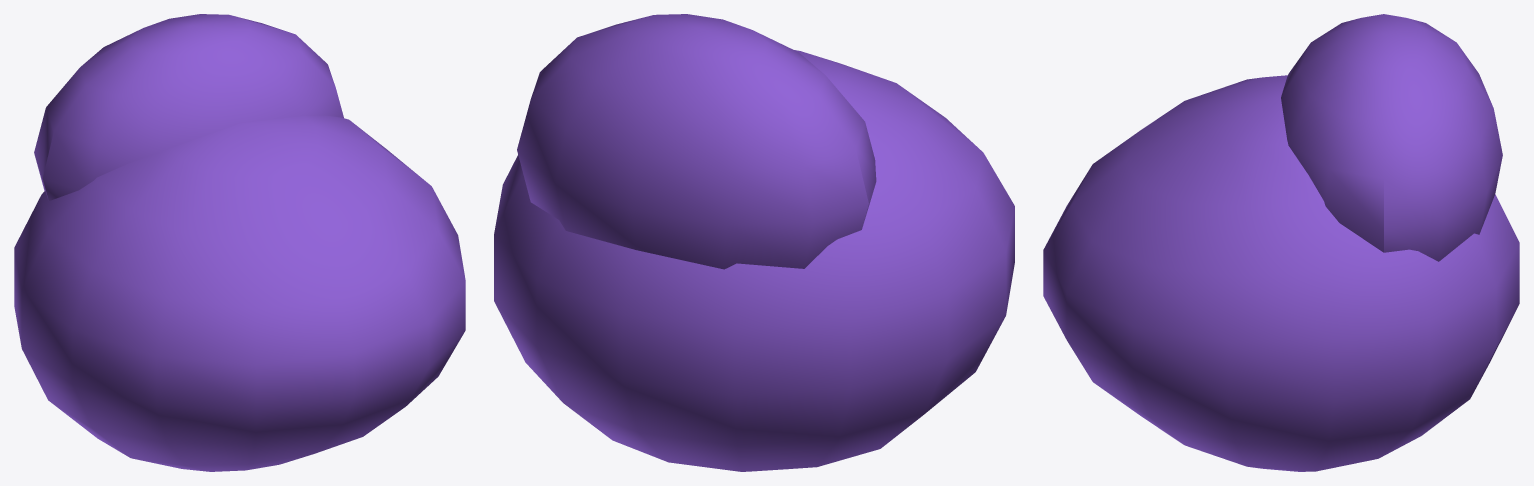
The model's file is Beanbag.fbx.
The picture shows the model from 3 angles, left to right: view 1: azimuth 30°, elevation 25°; view 2: azimuth 150°, elevation 25°; view 3: azimuth 270°, elevation 25°; orthographic projection. The views are drawn at different scales.
Visible parts, largest first — view 1: Beanbag; view 2: Beanbag; view 3: Beanbag.
Part boxes in pixels (x1,y1,x2,y2): Beanbag: (14, 14, 465, 471); Beanbag: (494, 14, 1014, 471); Beanbag: (1043, 14, 1519, 471).
Size of the model in its own units: 2.5 by 2.46 by 2.56.
1 material, 1 textured.
